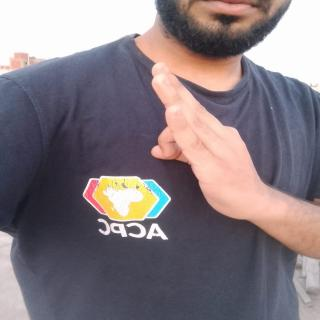Space: (142, 59, 282, 223)
